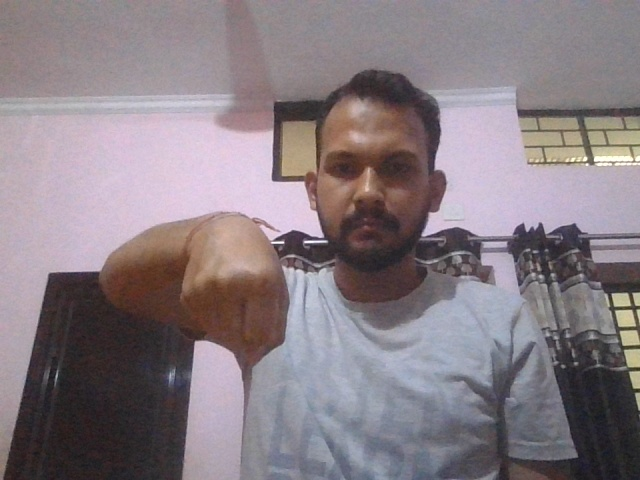yes: (180, 213, 292, 347)
